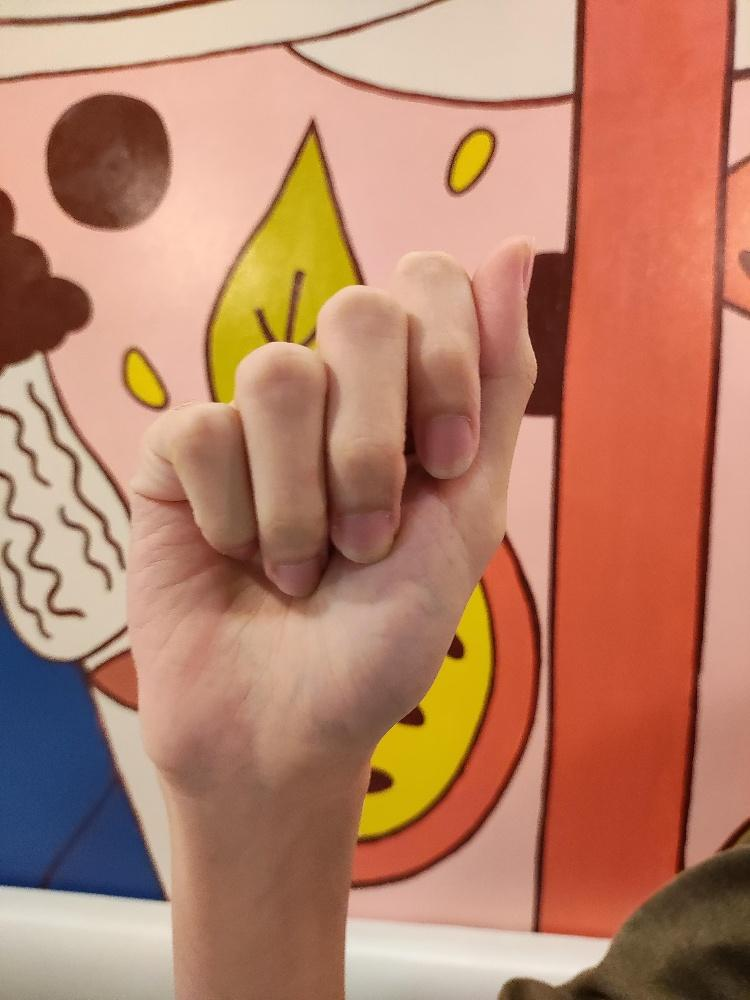a: (120, 235, 546, 808)
